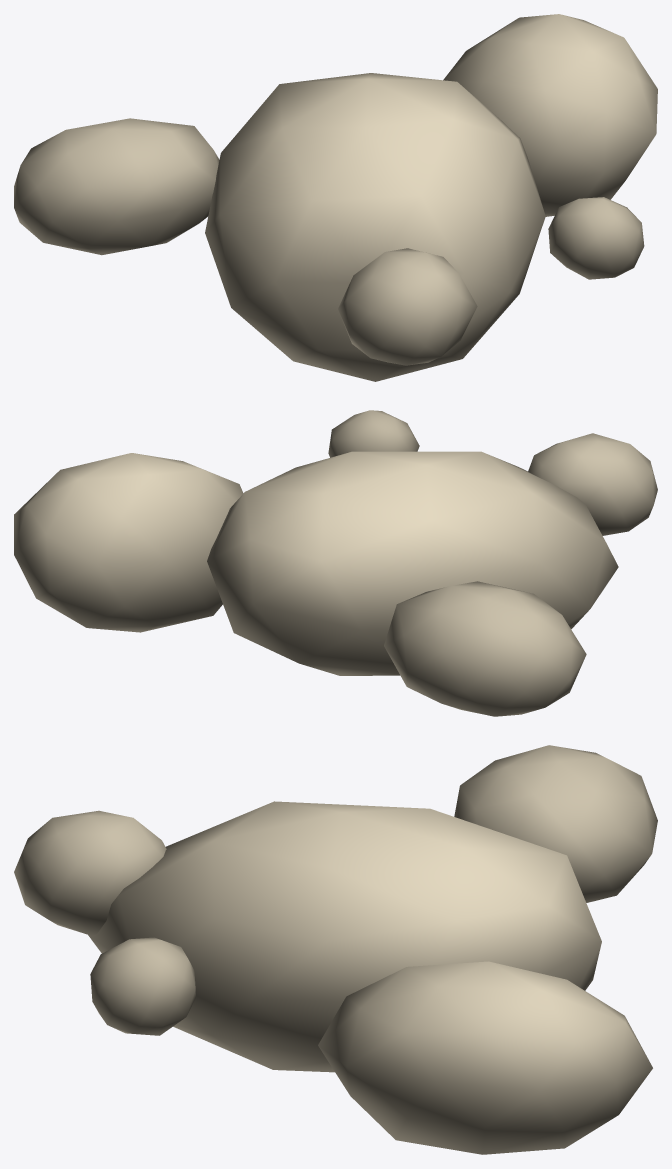
The model's file is pebble.glb.
The picture shows the model from 3 angles, top to bottom: view 1: azimuth 30°, elevation 25°; view 2: azimuth 150°, elevation 25°; view 3: azimuth 270°, elevation 25°; orthographic projection. The views are drawn at different scales.
Visible parts, largest first — view 1: Pebble; view 2: Pebble; view 3: Pebble.
Part boxes in pixels (left/top/right/bottom): Pebble: left=14, top=14, right=657, bottom=381; Pebble: left=14, top=410, right=657, bottom=716; Pebble: left=14, top=745, right=657, bottom=1154.
Bounding box in the file's own units: 0.2281 × 0.0749 × 0.1852.
